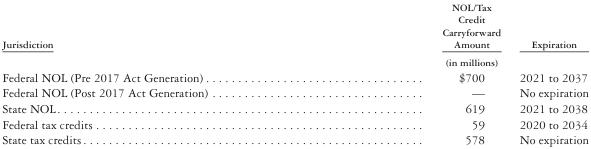table: (1, 0, 588, 146)
table column: (1, 0, 324, 146), (324, 0, 509, 146), (509, 0, 588, 146)
table column header: (1, 0, 588, 68)
table row: (1, 0, 588, 68), (1, 68, 588, 84), (1, 84, 588, 100), (1, 115, 588, 131), (1, 100, 588, 115), (1, 131, 588, 146)
